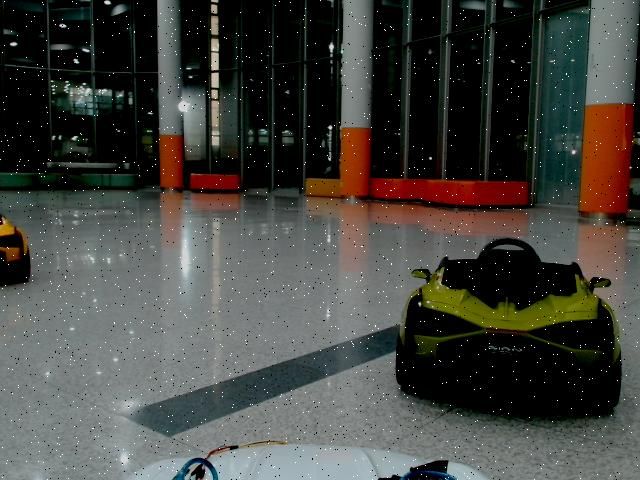car: (396, 239, 621, 412)
